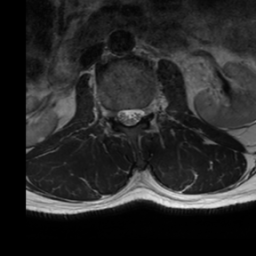CCS_normal: (125, 100, 135, 133)
LFS_normal: (143, 96, 151, 123)
LLS_normal: (135, 100, 144, 129)
RFS_normal: (107, 99, 116, 124)
RLS_normal: (116, 100, 125, 130)
